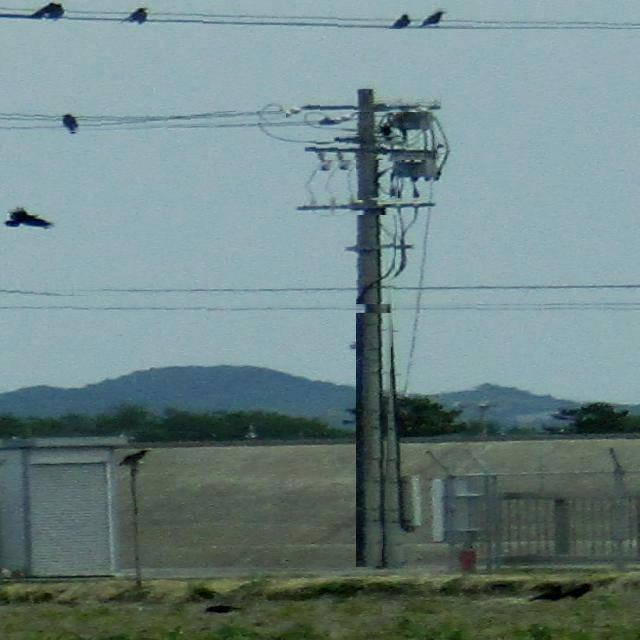crossarm: (305, 137, 437, 160), (295, 200, 437, 215), (302, 98, 442, 112)
pole: (356, 89, 391, 567)
wire: (0, 4, 640, 29), (0, 111, 277, 133), (4, 304, 640, 313), (0, 289, 184, 296)
